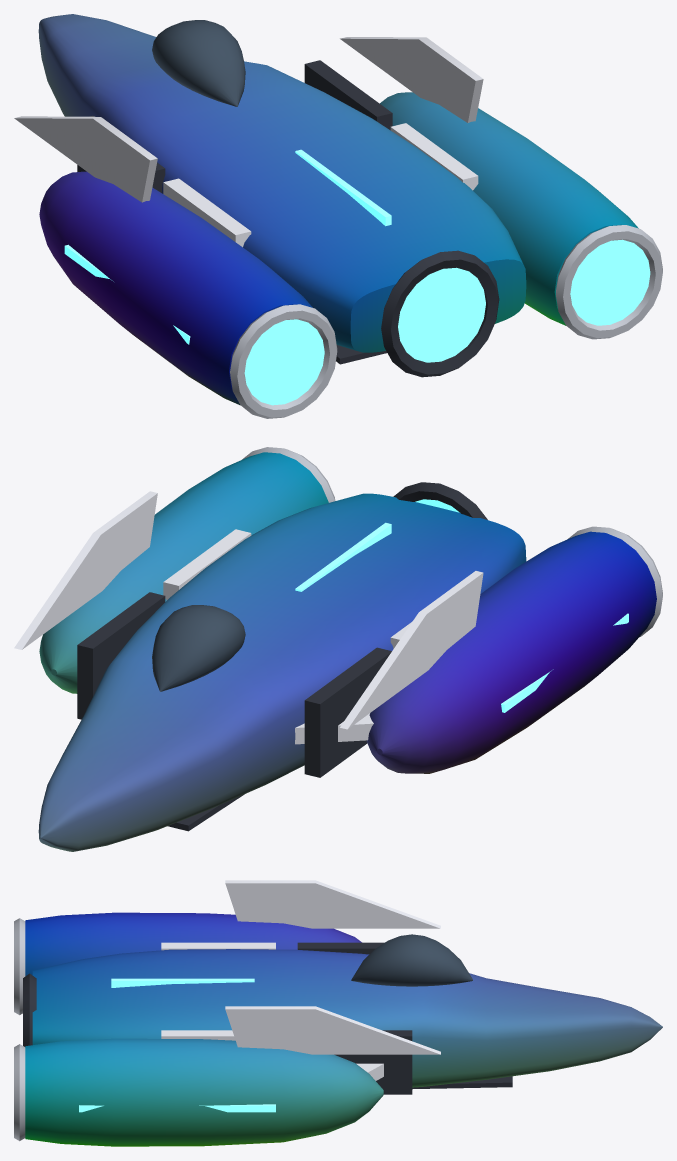
The model's file is bastion.glb.
The picture shows the model from 3 angles, top to bottom: view 1: azimuth 30°, elevation 25°; view 2: azimuth 150°, elevation 25°; view 3: azimuth 270°, elevation 25°; orthographic projection. The views are drawn at different scales.
Visible parts, largest first — view 1: bastion_LOD0; view 2: bastion_LOD0; view 3: bastion_LOD0.
Boxes of the visible parts, x1,y1,x2,y2 form: bastion_LOD0: (14,14,662,418); bastion_LOD0: (14,447,662,851); bastion_LOD0: (14,880,662,1146).
Size of what is drawn, in the model's own units: 2.84 by 1.08 by 4.53.
